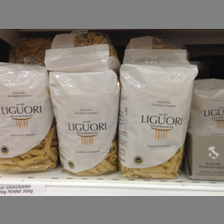pasta: (120, 59, 198, 178), (47, 71, 120, 176), (1, 62, 57, 173)
